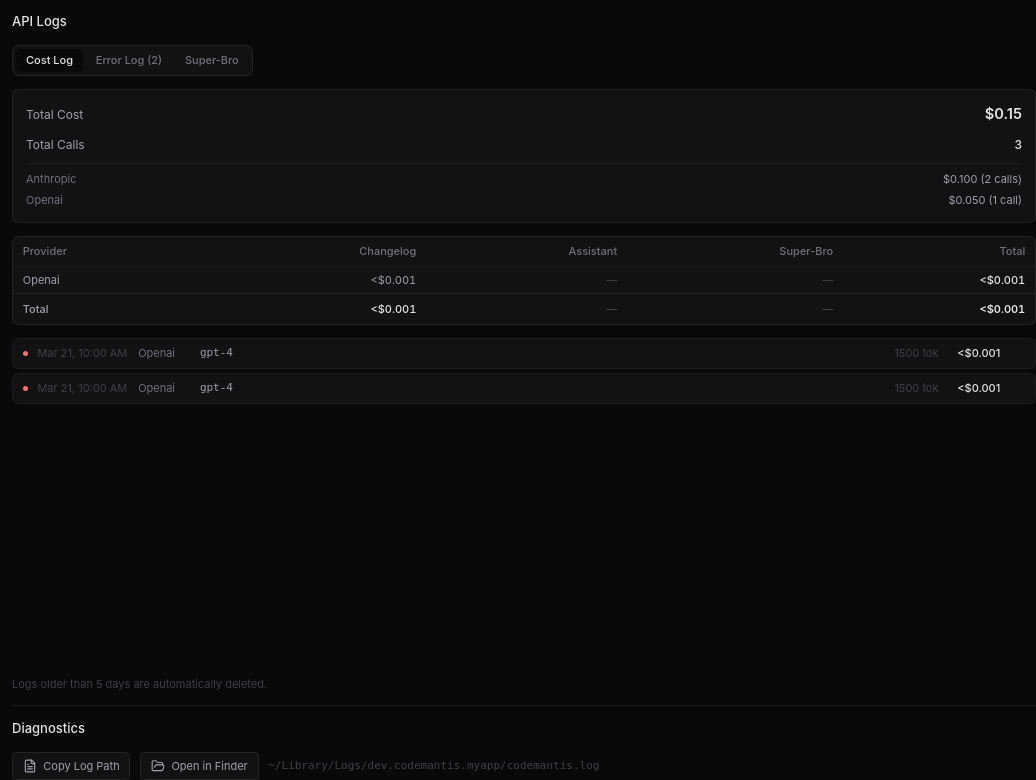
Scenario: ApiLogsTab › shows error count by provider
The image size is (1036, 780).
Click the button "Error Log (2)" at coordinates (129, 60), box [86,49,172,72]
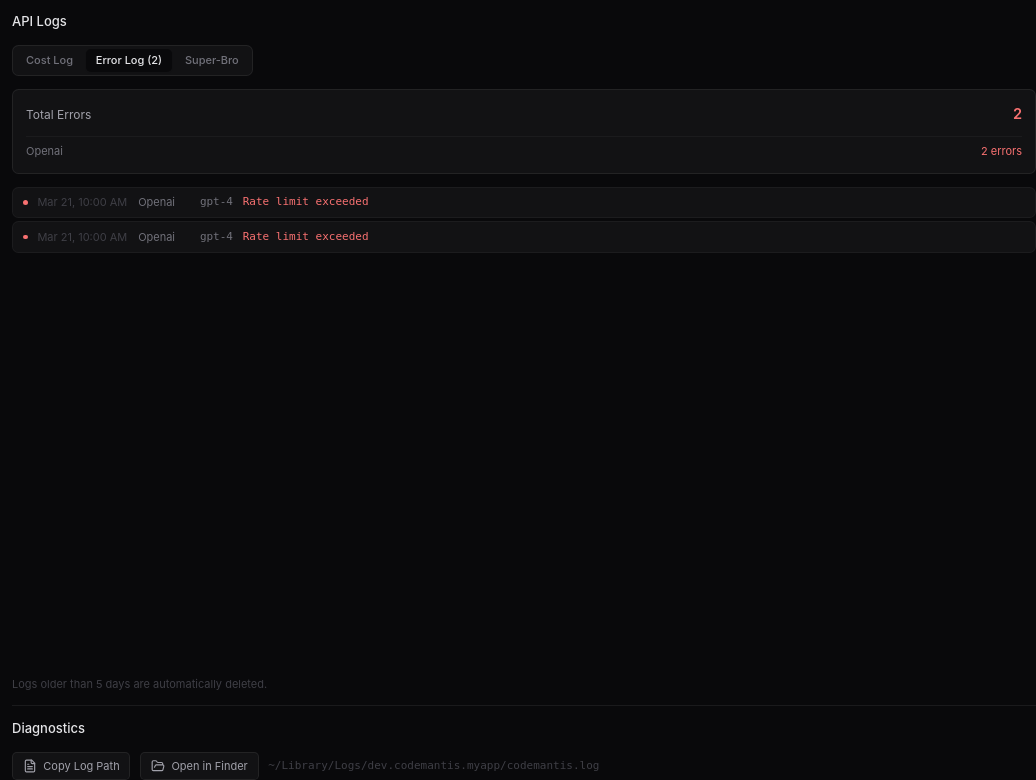
expect the text "2 errors" is shown: met, box [981,143,1022,160]
